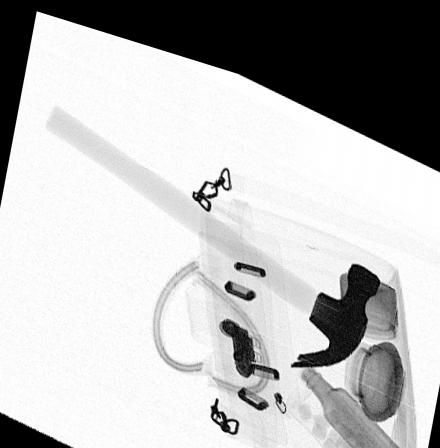Hammer: (42, 101, 381, 350)
